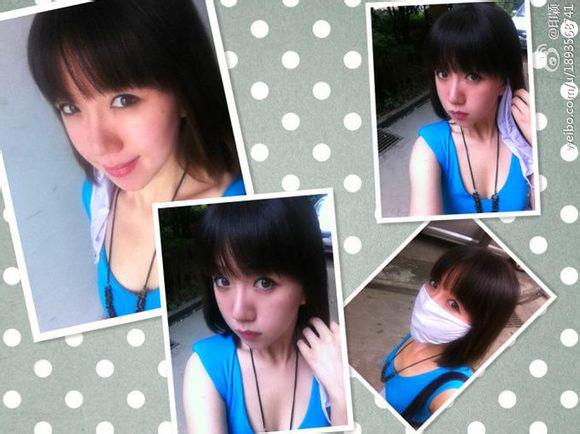NONE: (55, 76, 175, 188), (216, 262, 285, 344), (437, 67, 497, 129)
OK: (407, 266, 486, 345)
